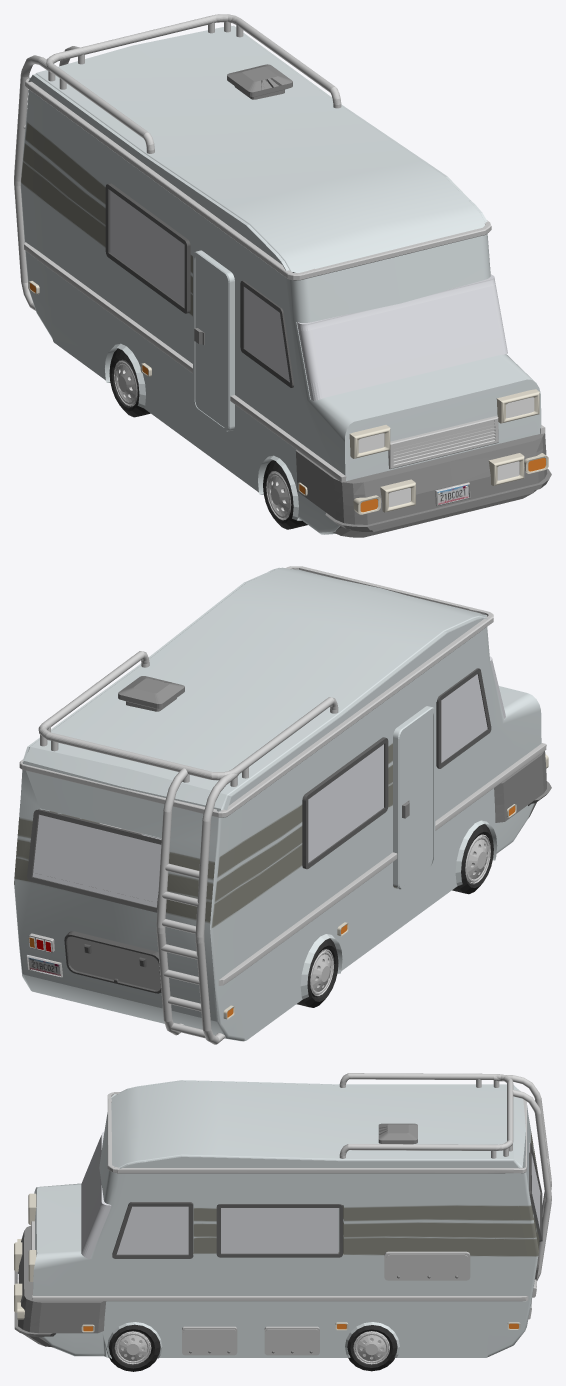
The model's file is Van2_Capot TER.fbx.
3 views of the same model, one above another, from view 1: azimuth 30°, elevation 25°; view 2: azimuth 150°, elevation 25°; view 3: azimuth 270°, elevation 25° (orthographic). The views are drawn at different scales.
Visible parts, largest first — view 1: polySurface169, polySurface137, polySurface200, polySurface126, polySurface146, polySurface139, polySurface119, polySurface113, polySurface124, polySurface109, polySurface178, polySurface171 (+11 smaller); view 2: polySurface169, polySurface108, polySurface126, polySurface146, polySurface113, polySurface139, polySurface120, polySurface124, polySurface178, polySurface109, polySurface160, polySurface200 (+9 smaller); view 3: polySurface169, polySurface150, polySurface200, polySurface147, polySurface135, polySurface139, polySurface113, polySurface170, polySurface137, polySurface115, polySurface193, polySurface132 (+10 smaller).
Boxes of the visible parts, x1,y1,x2,y2 form: polySurface169: (20,25,541,534); polySurface137: (297,274,507,400); polySurface200: (295,433,551,537); polySurface126: (193,250,234,431); polySurface146: (110,190,184,307); polySurface139: (46,14,341,153); polySurface119: (388,416,498,469); polySurface113: (25,78,490,280); polySurface124: (24,242,346,482); polySurface109: (244,287,289,381); polySurface178: (14,55,51,310); polySurface171: (105,183,190,313); polySurface169: (14,567,541,1041); polySurface108: (32,814,161,907); polySurface126: (393,706,435,889); polySurface146: (308,744,383,862); polySurface113: (19,568,493,817); polySurface139: (38,651,338,780); polySurface120: (64,931,161,993); polySurface124: (218,743,546,985); polySurface178: (195,773,238,1044); polySurface109: (441,674,487,762); polySurface160: (156,768,187,1035); polySurface200: (494,751,551,822); polySurface169: (33,1080,539,1358); polySurface150: (221,1208,338,1253); polySurface200: (14,1225,106,1347); polySurface147: (116,1206,188,1254); polySurface135: (31,1295,528,1301); polySurface139: (339,1073,513,1158); polySurface113: (107,1092,526,1173); polySurface170: (384,1251,470,1280); polySurface137: (81,1132,111,1259); polySurface115: (264,1326,319,1355); polySurface193: (182,1326,237,1355); polySurface132: (216,1204,342,1257).
Bounding box in the file's own units: 3185 × 4163 × 8935.
12 materials, 2 textured.
